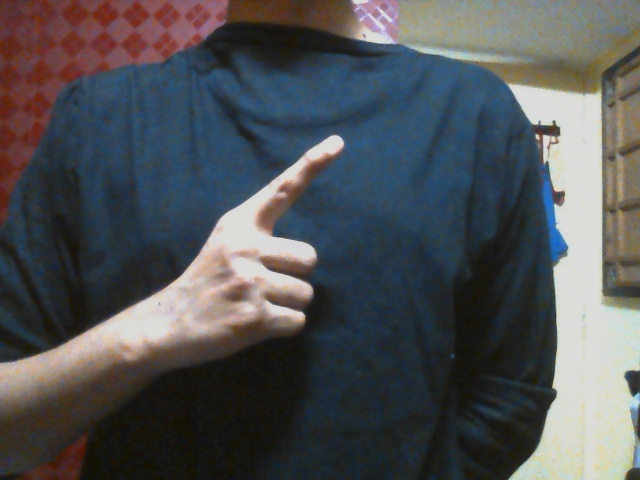I: (181, 134, 345, 365)
